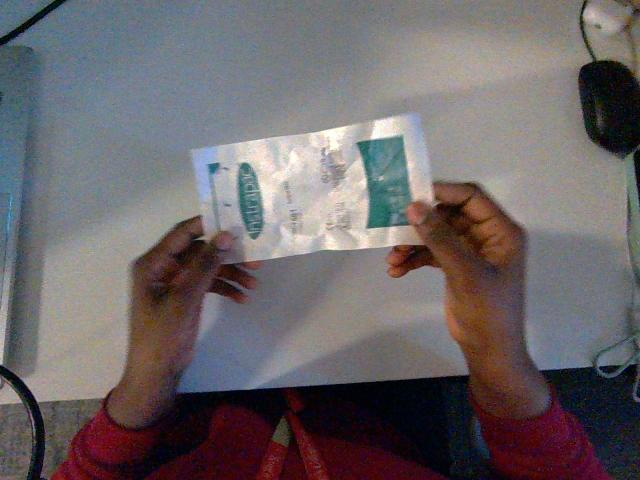gallipot: (191, 114, 432, 262)
